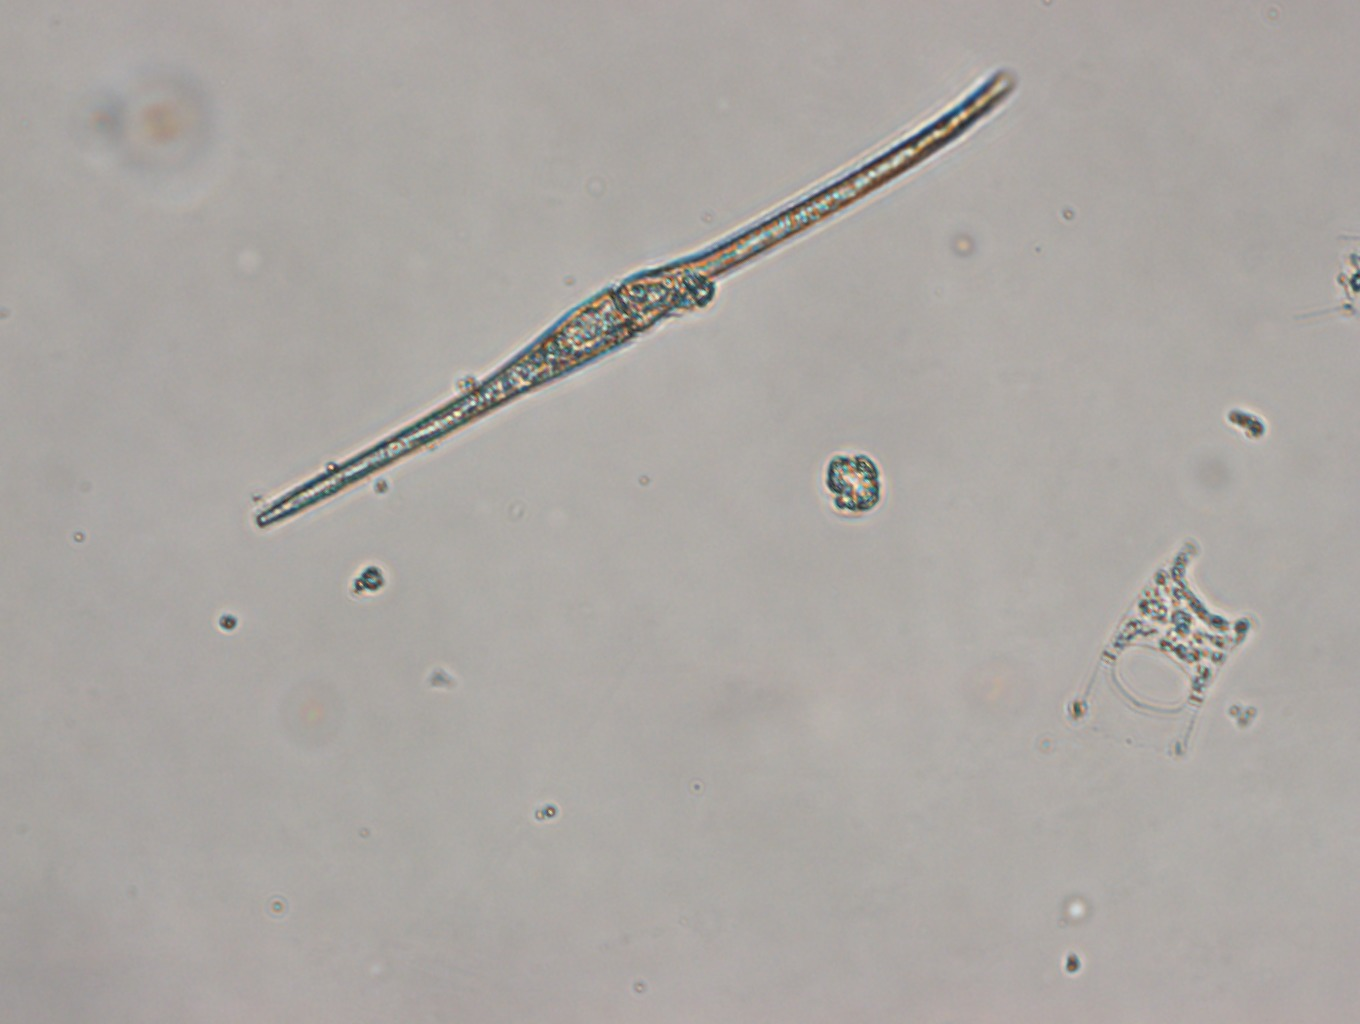ceratium fusus: (255, 57, 1028, 526)
